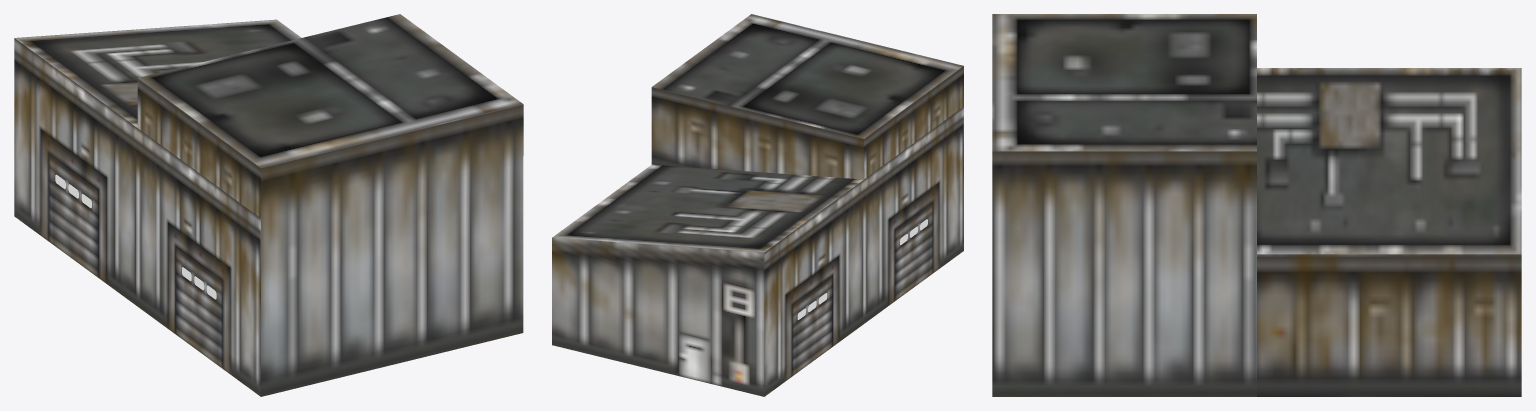
File: factorymd.glb
3 views of the same model, side by side, from view 1: azimuth 30°, elevation 25°; view 2: azimuth 150°, elevation 25°; view 3: azimuth 270°, elevation 25° (orthographic). The views are drawn at different scales.
Parts seen in each view (by area): view 1: Box1, LitWin; view 2: Box1, LitWin; view 3: Box1.
Part boxes in pixels (x1,y1,x2,y2): Box1: [14, 14, 523, 396]; LitWin: [55, 174, 216, 299]; Box1: [552, 14, 963, 396]; LitWin: [797, 219, 927, 319]; Box1: [992, 14, 1521, 396].
Bounding box in the file's own units: 15.49 × 12.9 × 25.2.
Materials: 2 (2 with a texture image).
